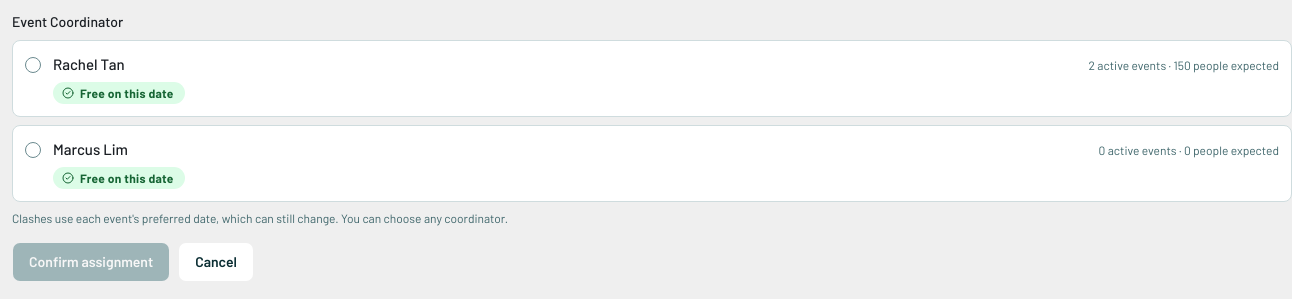
Scenario: SCRUM-78 — Assign an Event Coordinator › SCRUM-78/AC2 SCRUM-78/AC3 assigns the chosen coordinator on confirm and shows the event as assigned
Step 1. Click the radio button named "Marcus Lim" next to "Marcus Lim" → (33, 150), box [25,142,41,158]
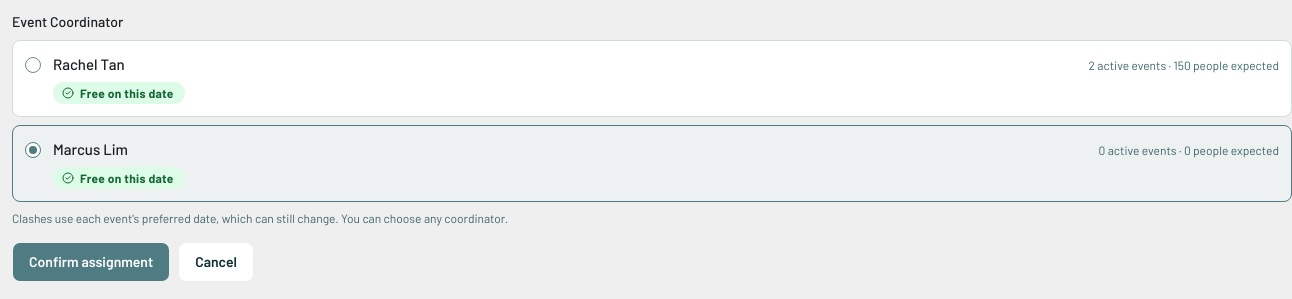
Step 2. Click the button "Confirm assignment" → (91, 262), box [12,242,170,282]
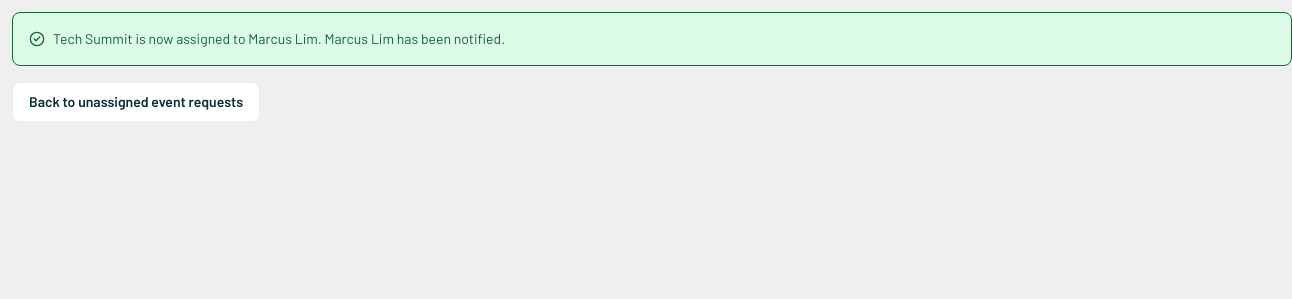
expect the message reads "Tech Summit is now assigned to Marcus Lim. Marcus Lim has been notified.": met, box [12,12,1291,66]
expect the button "Confirm assignment" is gone: met
